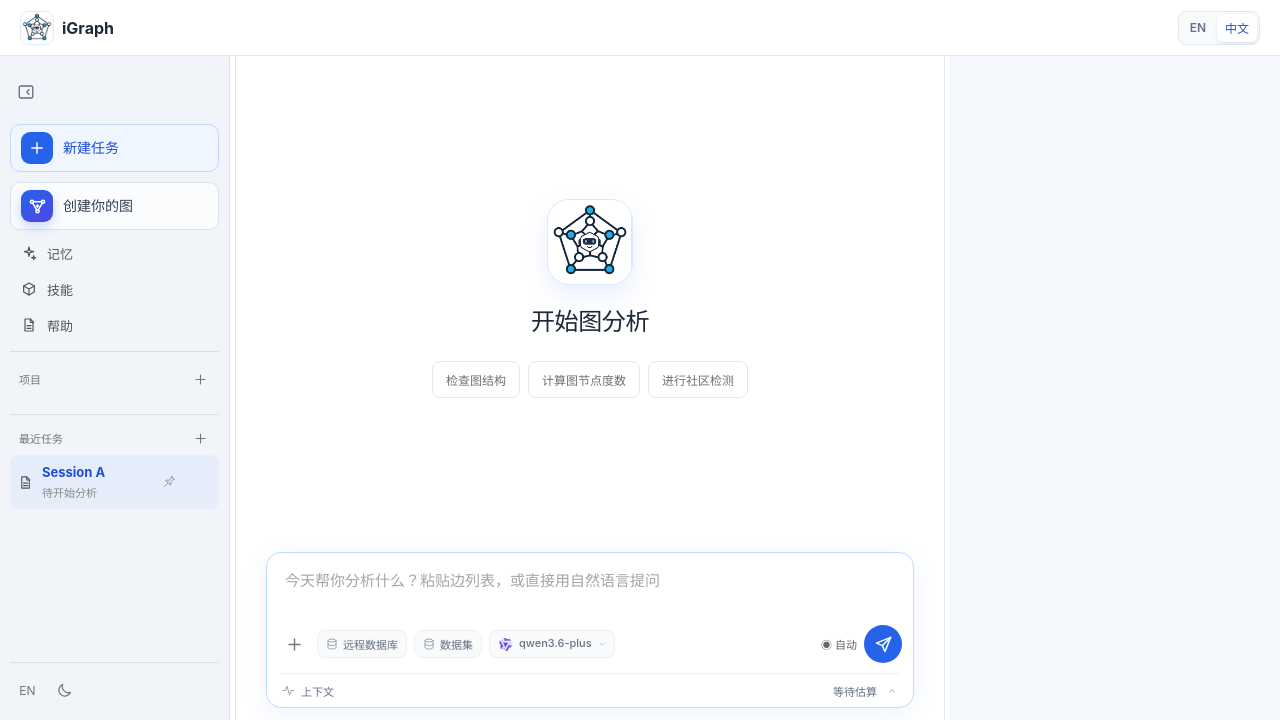
the composer dataset button still loads the current conversation scope
Expected: the text box with placeholder "今天帮你分析什么？粘贴边列表，或直接用自然语言提问" is shown, [267,553,913,625]
Click the button "数据集" at (448, 644), box [414,630,482,658]
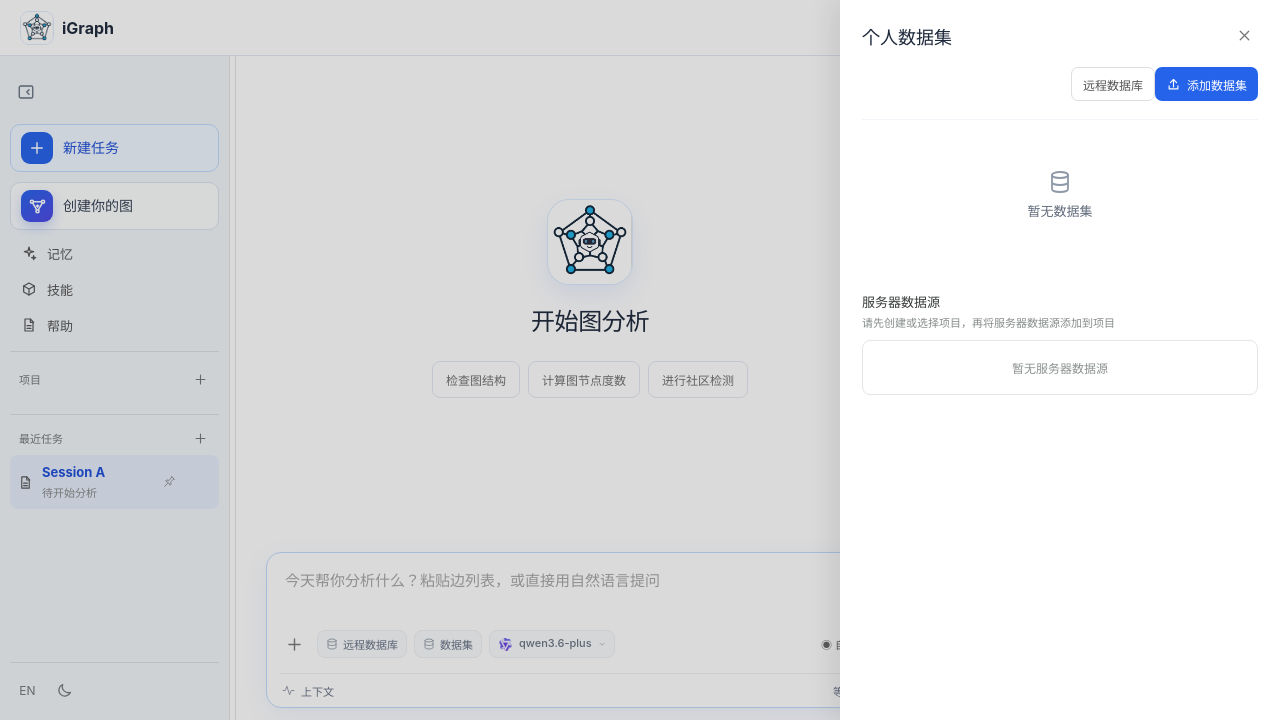
Now the dialog "个人数据集" is shown, box [840,0,1279,719]
